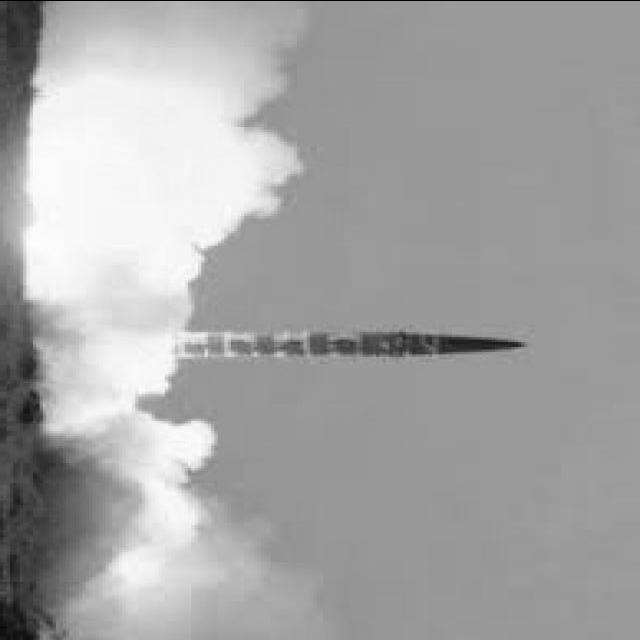Missile: (174, 325, 535, 360)
